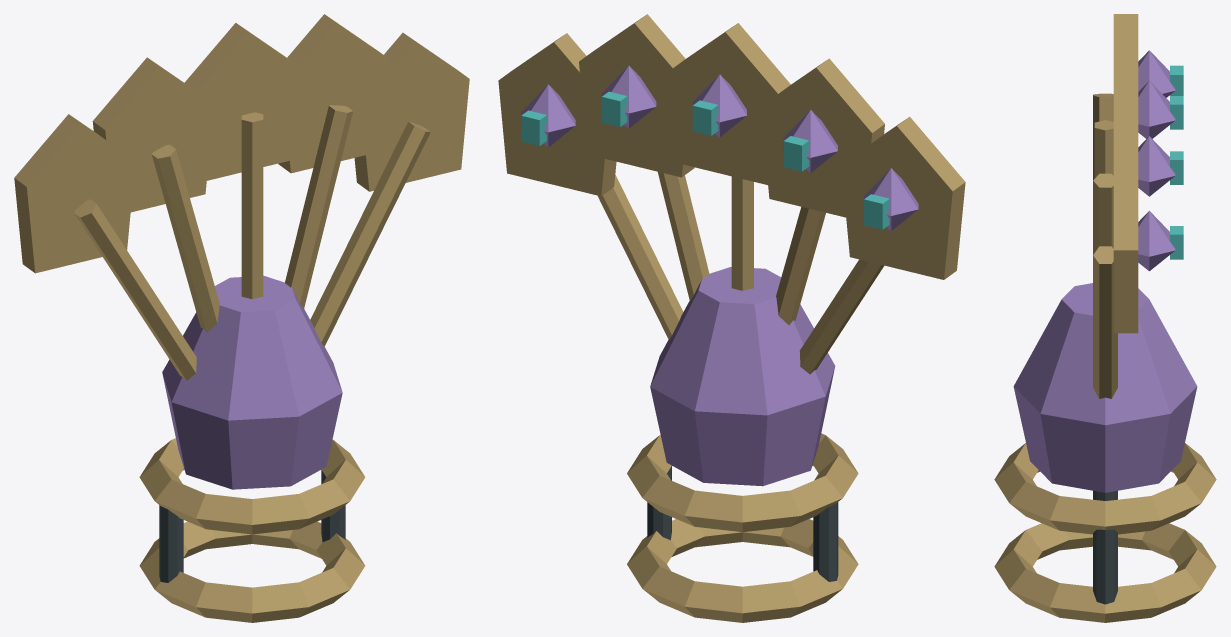
File: Arsenal_PeacockCleanser.fbx
3 views of the same model, side by side, from view 1: azimuth 30°, elevation 25°; view 2: azimuth 150°, elevation 25°; view 3: azimuth 270°, elevation 25° (orthographic). The views are drawn at different scales.
Parts seen in each view (by area): view 1: Arsenal_PeacockCleanser; view 2: Arsenal_PeacockCleanser; view 3: Arsenal_PeacockCleanser.
Boxes of the visible parts, <box> form: Arsenal_PeacockCleanser: <box>14,14,469,622</box>; Arsenal_PeacockCleanser: <box>498,14,965,622</box>; Arsenal_PeacockCleanser: <box>994,14,1216,622</box>.
Bounding box in the file's own units: 0.3667 × 0.434 × 0.162.
